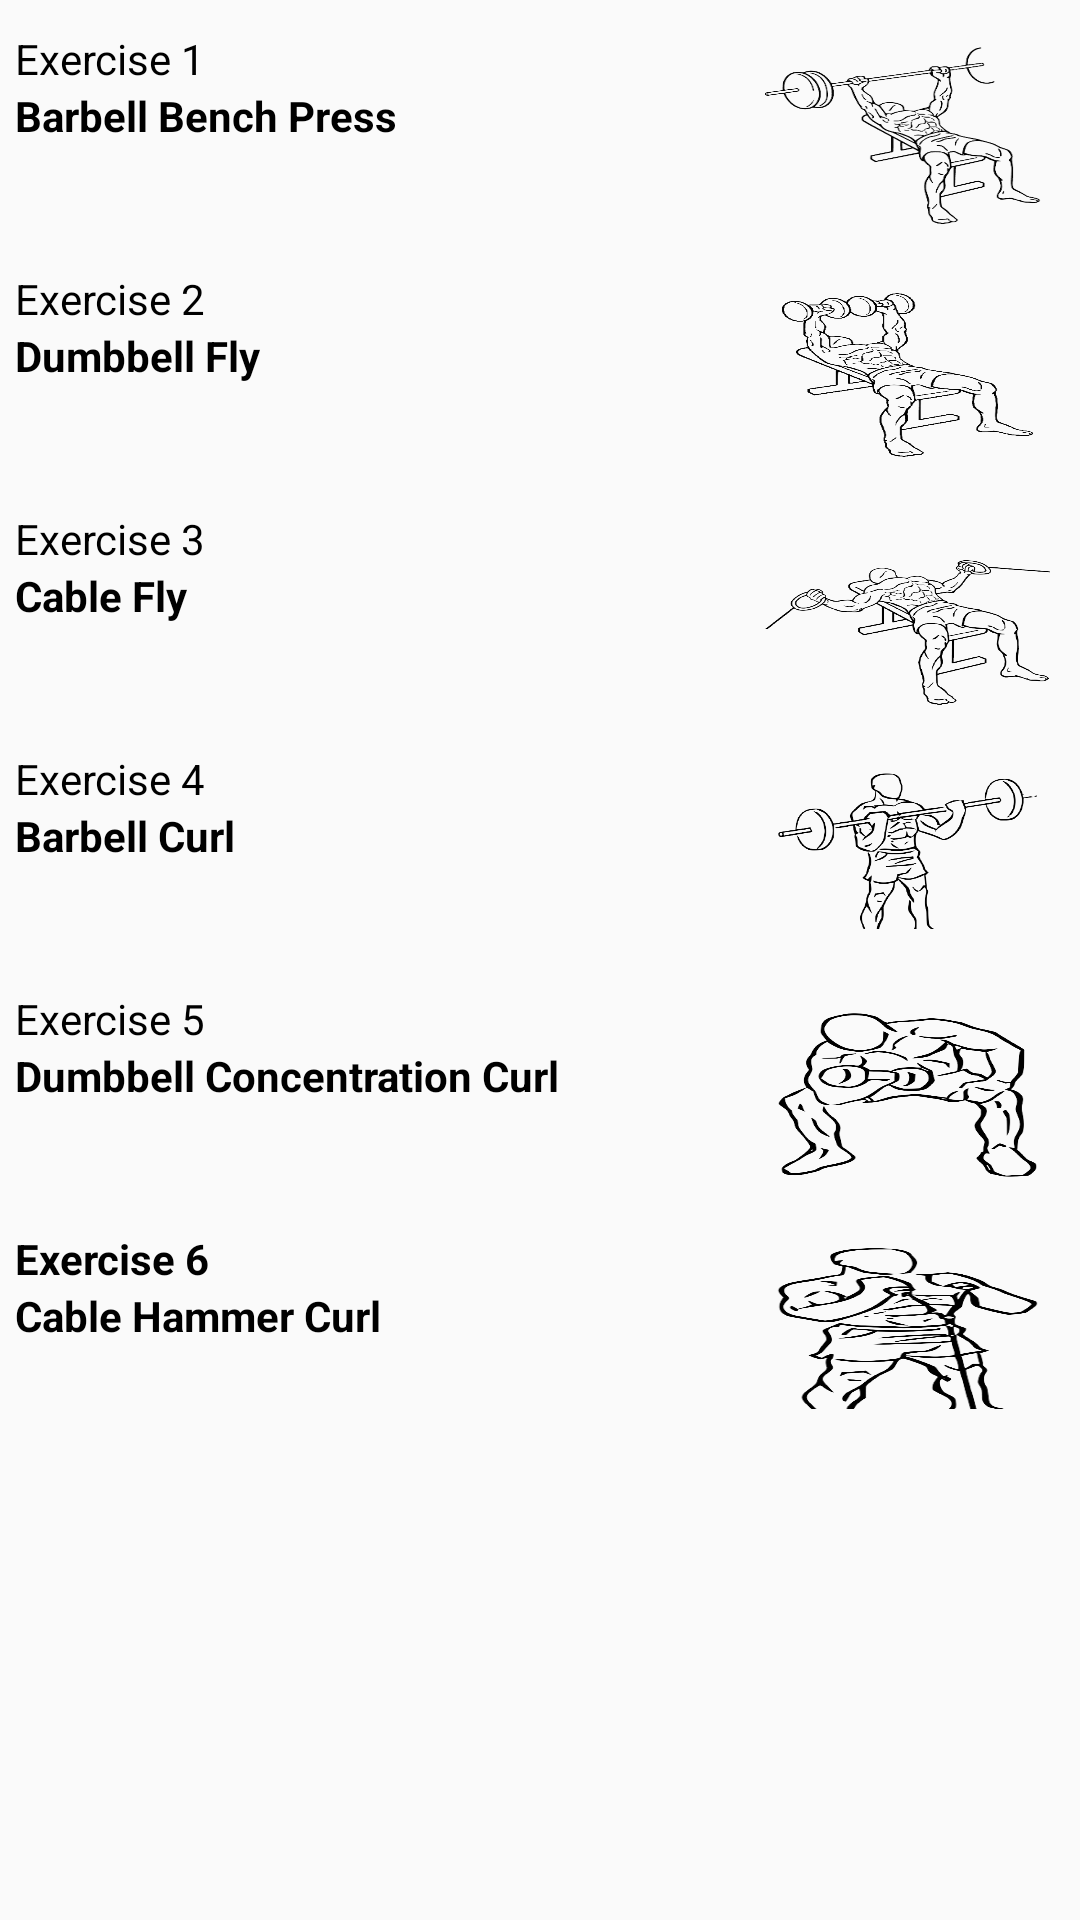

Icons on this 1080px×1920px Android screen, each with the point to tap as point (x, y):
barbell benc press: point (902, 135)
